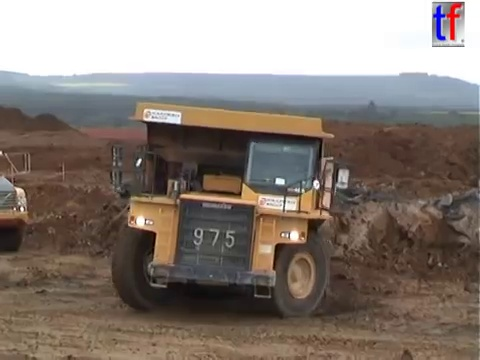truck: (108, 99, 351, 320), (1, 148, 33, 255)
